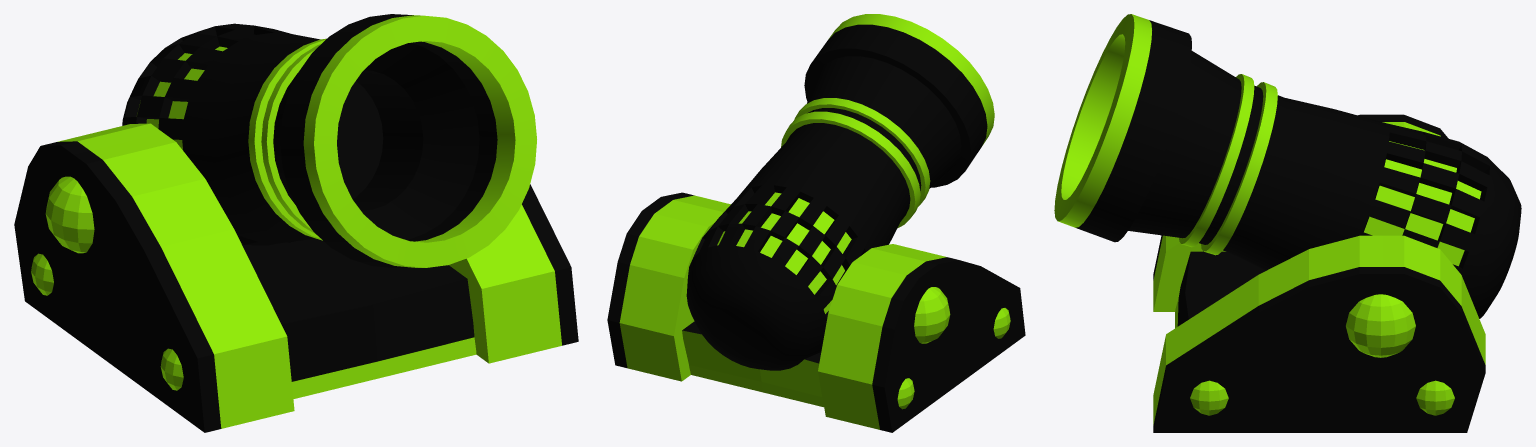
The model's file is cannon.fbx.
3 renders of one model, left to right at view 1: azimuth 30°, elevation 25°; view 2: azimuth 150°, elevation 25°; view 3: azimuth 270°, elevation 25°, orthographic. The views are drawn at different scales.
Visible parts, largest first — view 1: BaseCannon, Cannon; view 2: Cannon, BaseCannon; view 3: Cannon, BaseCannon.
Part boxes in pixels (x1,y1,x2,y2): BaseCannon: (14,123,578,432); Cannon: (122,14,536,267); Cannon: (686,14,994,370); BaseCannon: (607,192,1025,432); Cannon: (1054,14,1521,318); BaseCannon: (1153,114,1485,432).
Bounding box in the file's own units: 196 × 168 × 216.
